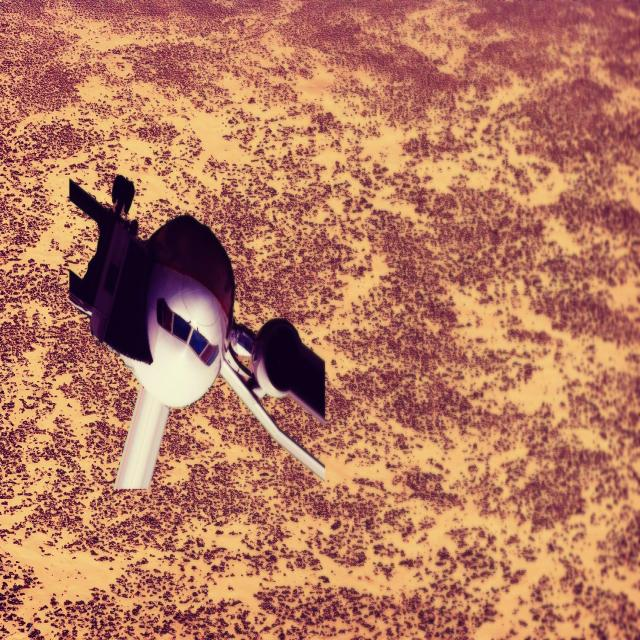airplane: (67, 173, 327, 491)
